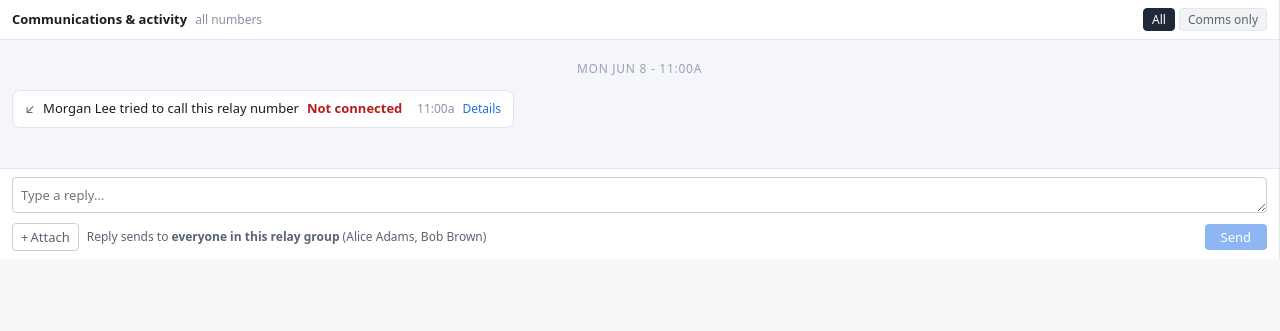
Test: Timeline call cards - direction › renders a matched external caller as a plain-text face with collapsed refusal details
Check: the text "Morgan Lee tried to call this relay number" is shown, box x1=43 y1=99 x2=299 y2=118
Check: the text "Not connected" is shown, box x1=307 y1=99 x2=402 y2=118
Click the button with aria-label "Details for Morgan Lee tried to call this relay number": coordinates (482, 109) x1=462 y1=100 x2=501 y2=117
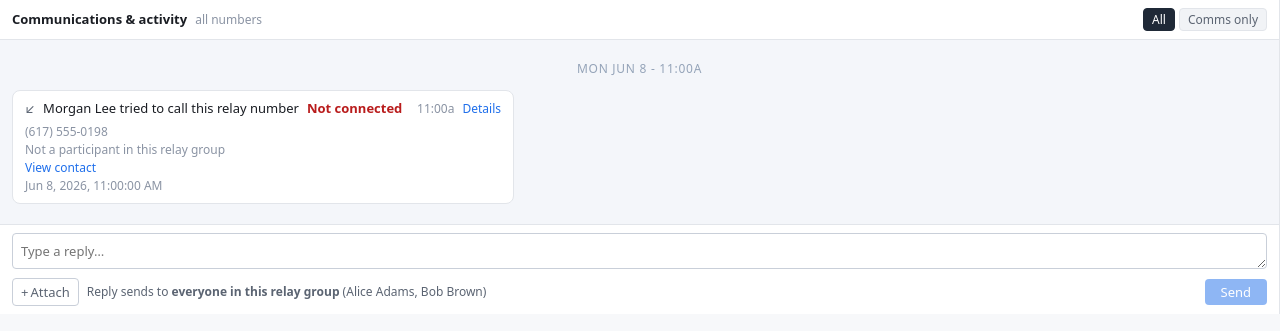
Check: the text "(617) 555-0198" is shown, box x1=25 y1=122 x2=108 y2=140
Check: the text "Not a participant in this relay group" is shown, box x1=25 y1=140 x2=225 y2=158
Check: the text "Jun 8, 2026, 11:00:00 AM" is shown, box x1=25 y1=176 x2=162 y2=194
